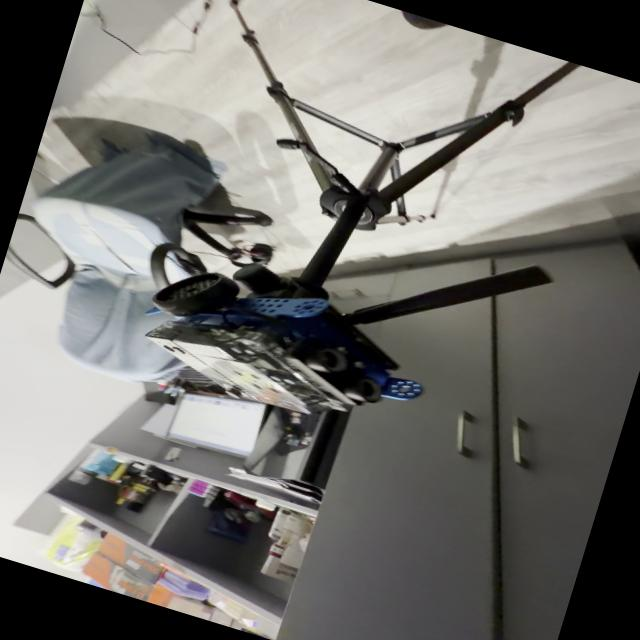mbot-detection: (118, 238, 450, 455)
